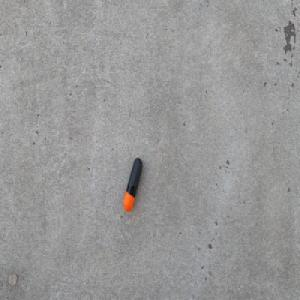PlasticPart: (122, 157, 143, 212)
